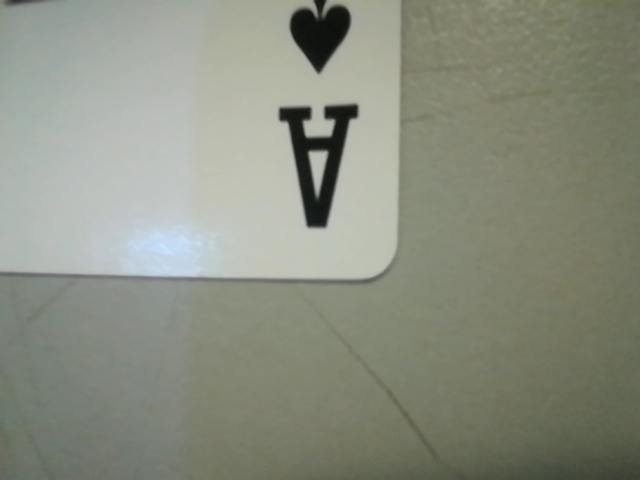ht a: (239, 0, 382, 246)
